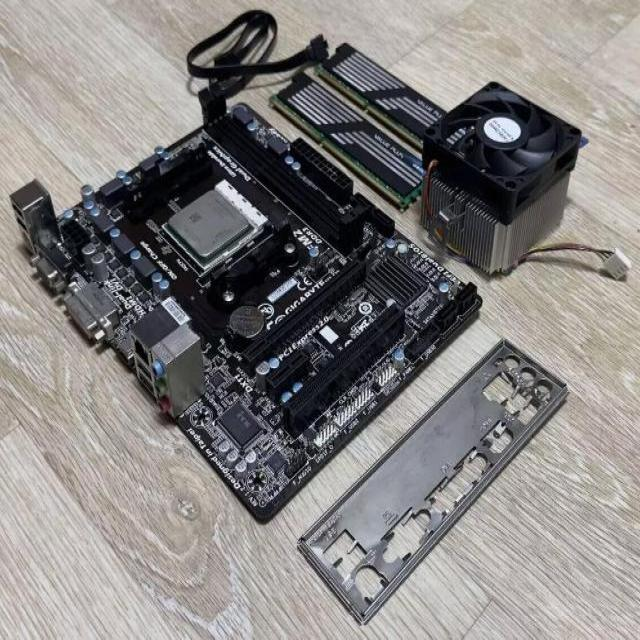CPU: (164, 188, 256, 269)
CPU_Fan: (422, 81, 583, 228)
RAM: (268, 69, 420, 212), (312, 41, 430, 126)
